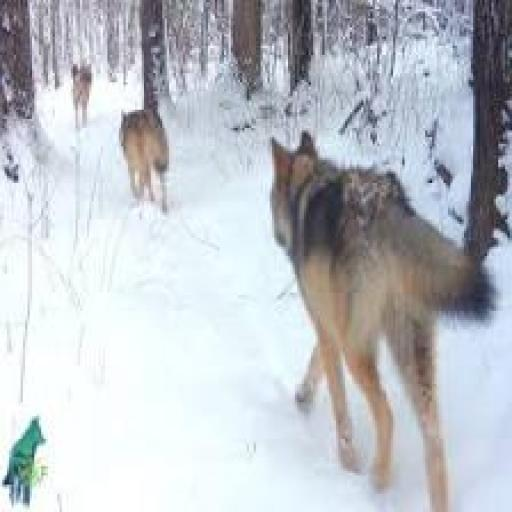wolf: (260, 125, 504, 512), (116, 105, 180, 221)
